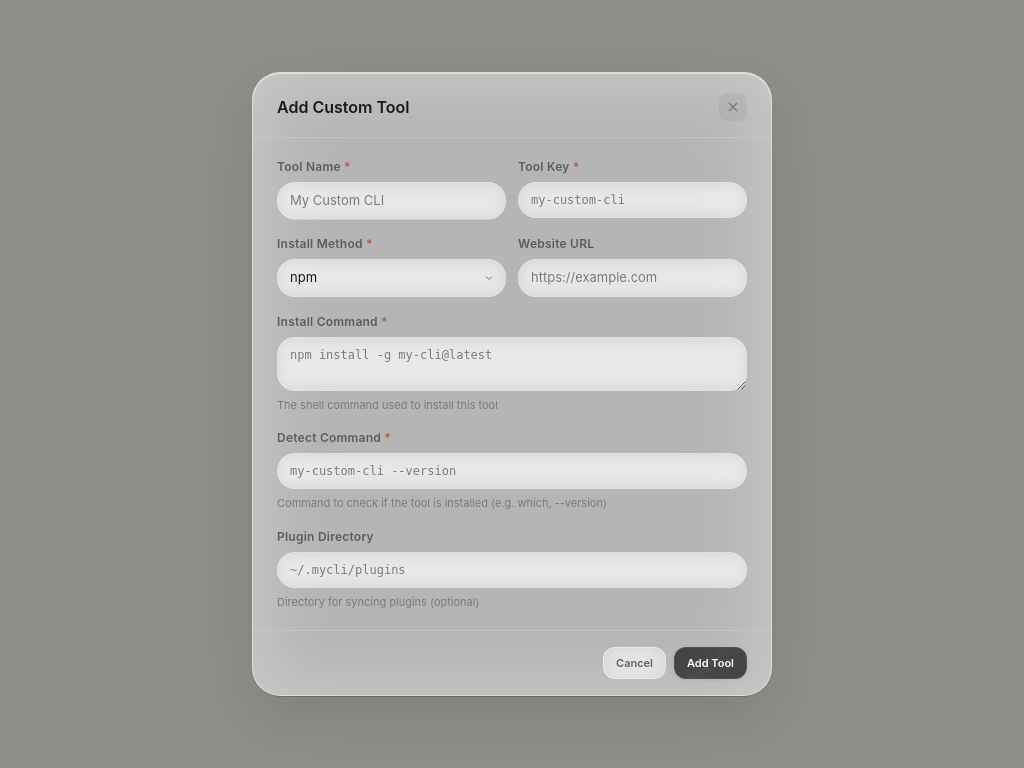
it: CustomToolDialog › shows validation errors for empty required fields
Click the submit button at (710, 663), box [674,647,747,679]
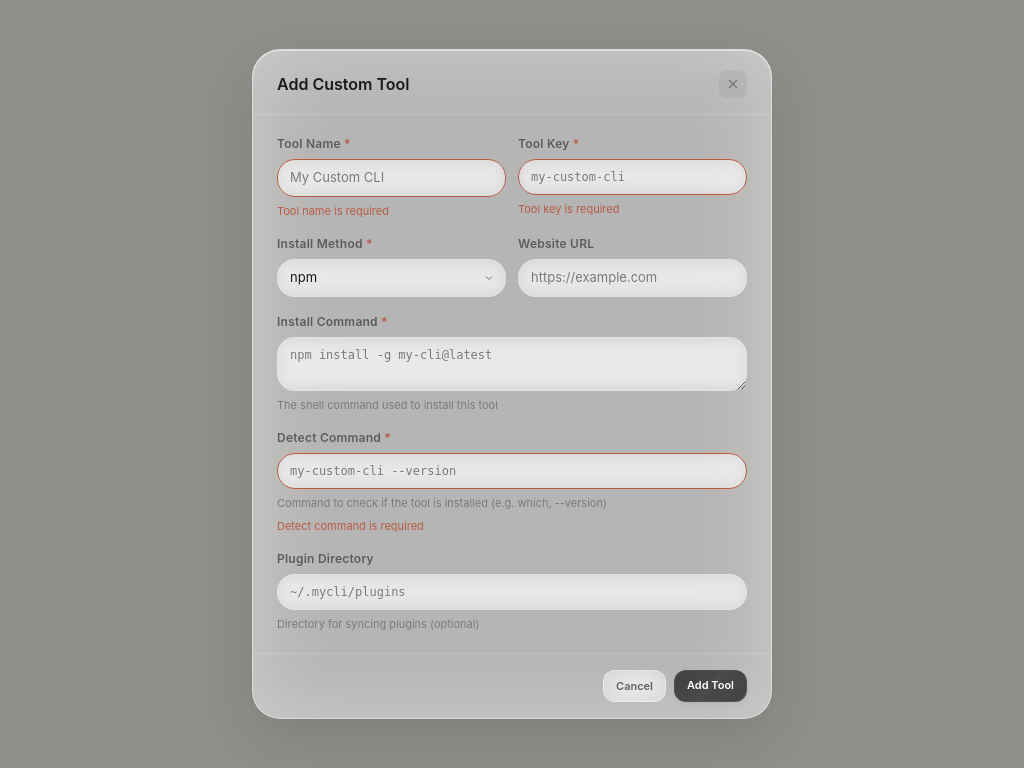
expect the text "Tool name is required" is shown: met, box [277,204,389,218]
